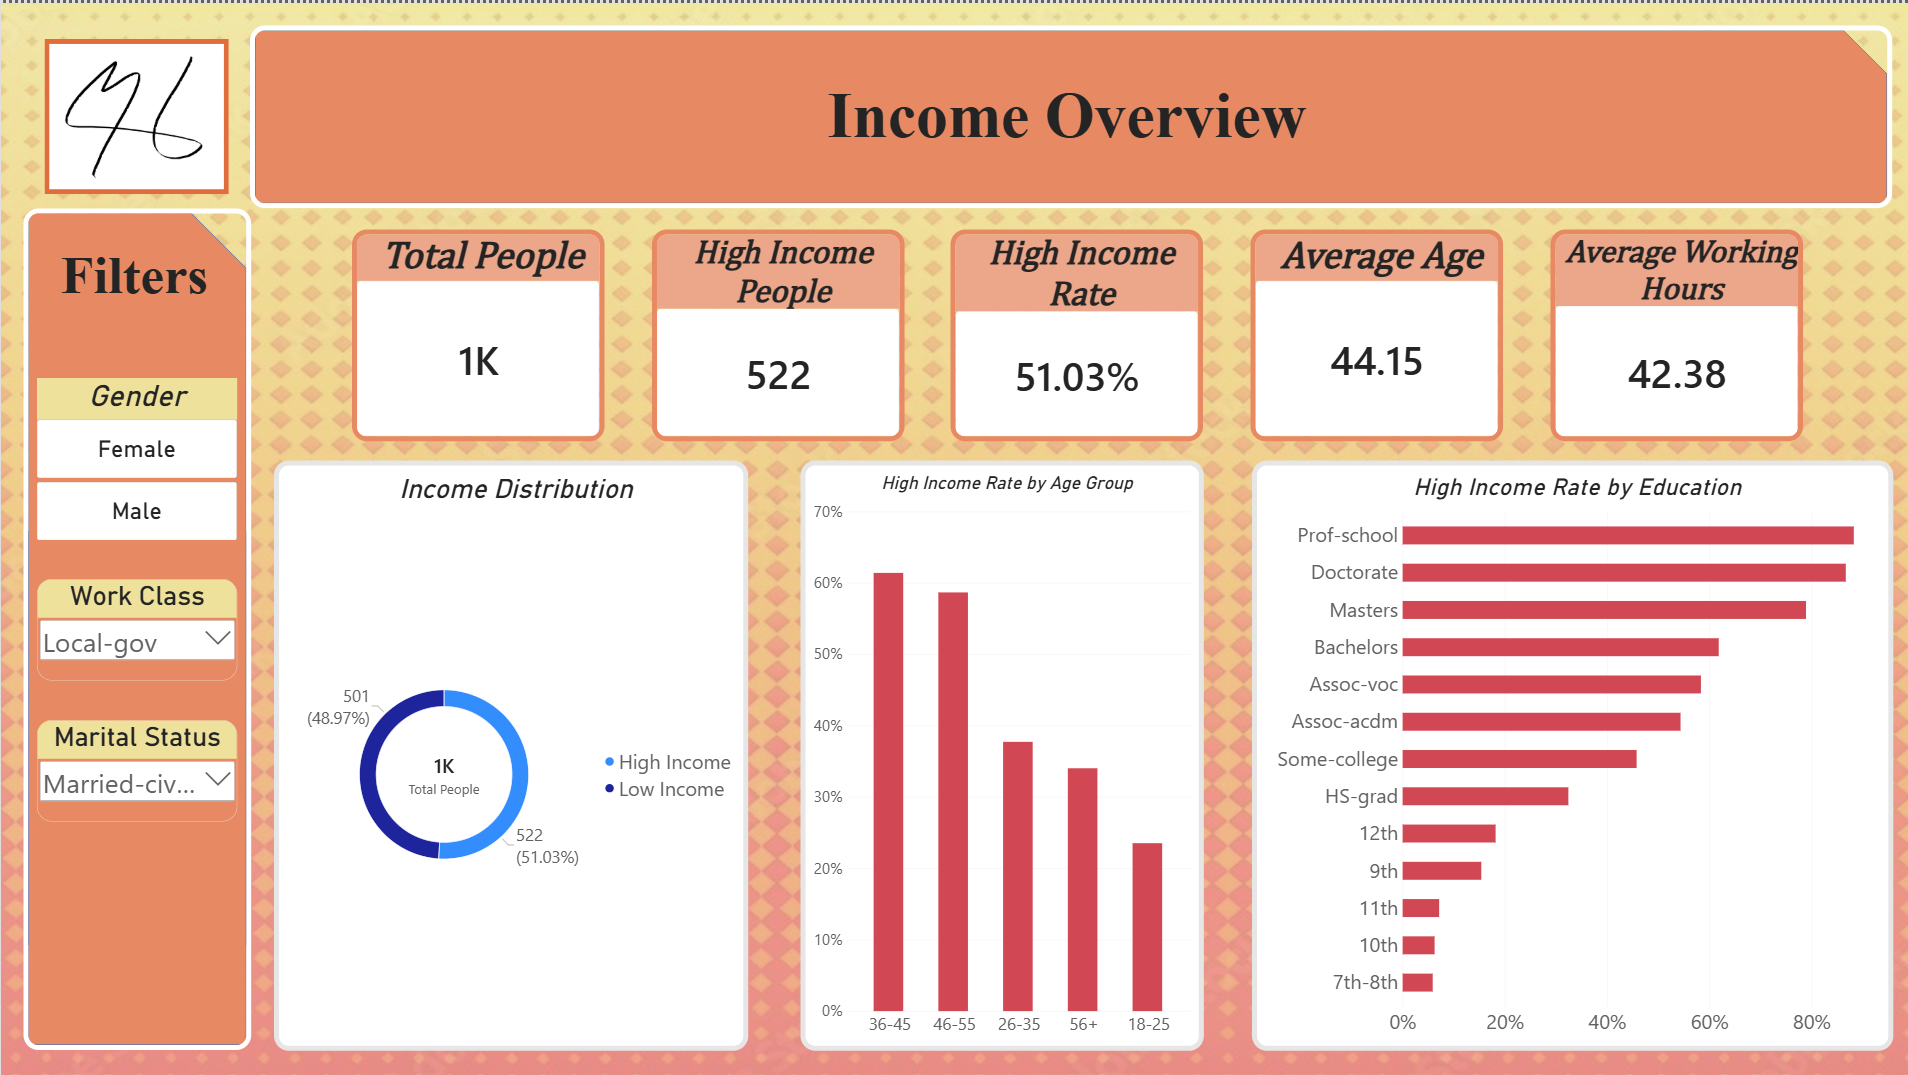

Layout of this report page (visuals, bound fields, positions):
{"tool":"powerbi","page":{"name":"Income Overview","canvas":[3840,2160],"ordinal":1},"visuals":[{"type":"shape","box":[43.8,414.3,458.1,1692.4],"z":0},{"type":"shape","box":[501.9,46.7,3303.1,367.7],"z":1000},{"type":"textbox","box":[1663.2,154.7,1453.1,280.1],"z":2000},{"type":"textbox","box":[119.6,484.4,382.2,274.3],"z":3000},{"type":"cardVisual","title":"Total People","fields":{"Data":["Data.Total People"]},"box":[706.1,455.2,507.7,426],"z":4000},{"type":"cardVisual","title":"Average Working Hours","fields":{"Data":["Data.Average Hours"]},"box":[3116.4,455.2,507.7,426],"z":5000},{"type":"cardVisual","title":"Average Age","fields":{"Data":["Data.Average Age"]},"box":[2513.8,455.2,507.7,426],"z":6000},{"type":"cardVisual","title":"High Income Rate","fields":{"Data":["Data.High Income %"]},"box":[1911.2,455.2,507.7,426],"z":7000},{"type":"cardVisual","title":"High Income People","fields":{"Data":["Data.High Income People"]},"box":[1308.7,455.2,507.7,426],"z":8000},{"type":"donutChart","title":"Income Distribution","fields":{"Category":["Data.Income Category"],"Y":["Data.Total People"]},"box":[548.6,919.1,954.2,1187.6],"z":9000},{"type":"clusteredColumnChart","title":"High Income Rate by Age Group","fields":{"Category":["Data.Age Group"],"Y":["Data.High Income %"]},"box":[1607.8,919.1,811.2,1187.6],"z":10000},{"type":"clusteredBarChart","title":"High Income Rate by Education","fields":{"Category":["Data.Education"],"Y":["Data.High Income %"]},"box":[2515.3,919.1,1289.7,1187.6],"z":11000},{"type":"advancedSlicerVisual","title":"Gender","fields":{"Values":["Data.Sex"]},"box":[72.9,752.8,402.7,326.8],"z":12000},{"type":"slicer","title":"Work Class","fields":{"Values":["Data.WorkClass"]},"box":[72.9,1158.4,402.7,204.3],"z":13000},{"type":"slicer","title":"Marital Status","fields":{"Values":["Data.MartialStatus"]},"box":[72.9,1441.5,402.7,204.3],"z":14000},{"type":"image","box":[87.5,72.9,370.6,312.2],"z":15000}]}

Visuals, with their boxes in screenshot pixels (x1, y1, x2, y2), scaled from the page's 3840x2160 canvas onto the 1908x1075 screenshot:
shape: detection(22, 206, 249, 1048)
shape: detection(249, 23, 1891, 206)
textbox: detection(826, 77, 1548, 216)
textbox: detection(59, 241, 249, 378)
"Total People" cardVisual: detection(351, 227, 603, 439)
"Average Working Hours" cardVisual: detection(1548, 227, 1801, 439)
"Average Age" cardVisual: detection(1249, 227, 1501, 439)
"High Income Rate" cardVisual: detection(950, 227, 1202, 439)
"High Income People" cardVisual: detection(650, 227, 903, 439)
"Income Distribution" donutChart: detection(273, 457, 747, 1048)
"High Income Rate by Age Group" clusteredColumnChart: detection(799, 457, 1202, 1048)
"High Income Rate by Education" clusteredBarChart: detection(1250, 457, 1891, 1048)
"Gender" advancedSlicerVisual: detection(36, 375, 236, 537)
"Work Class" slicer: detection(36, 577, 236, 678)
"Marital Status" slicer: detection(36, 717, 236, 819)
image: detection(43, 36, 228, 192)
